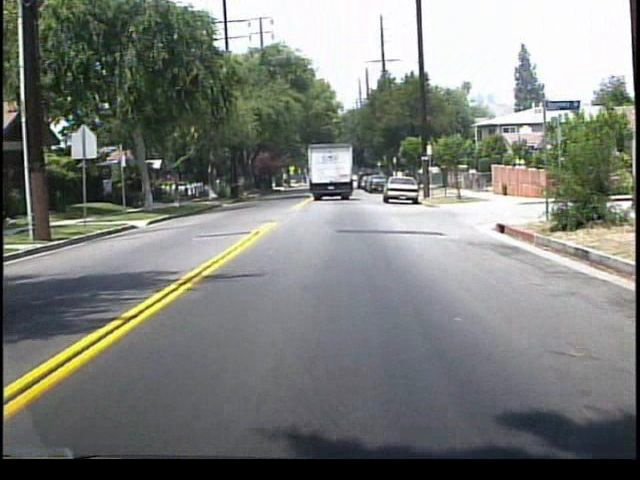person: (466, 165, 477, 191)
